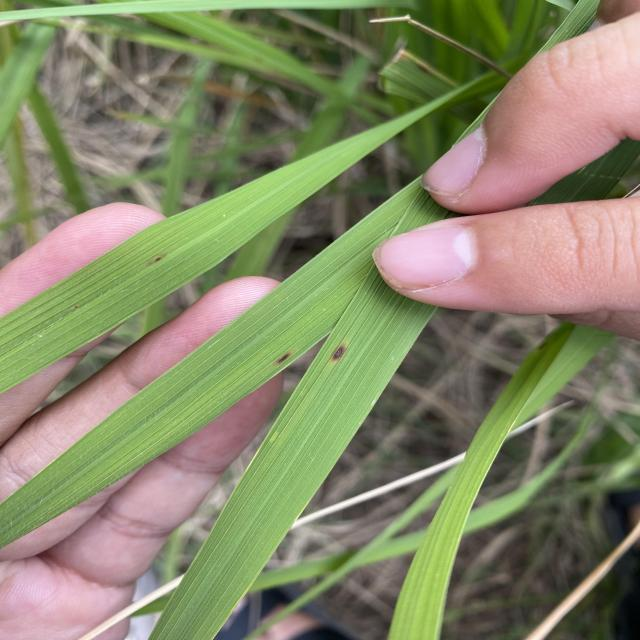Dom nau: (328, 341, 349, 365), (274, 349, 292, 366), (151, 253, 167, 264)
